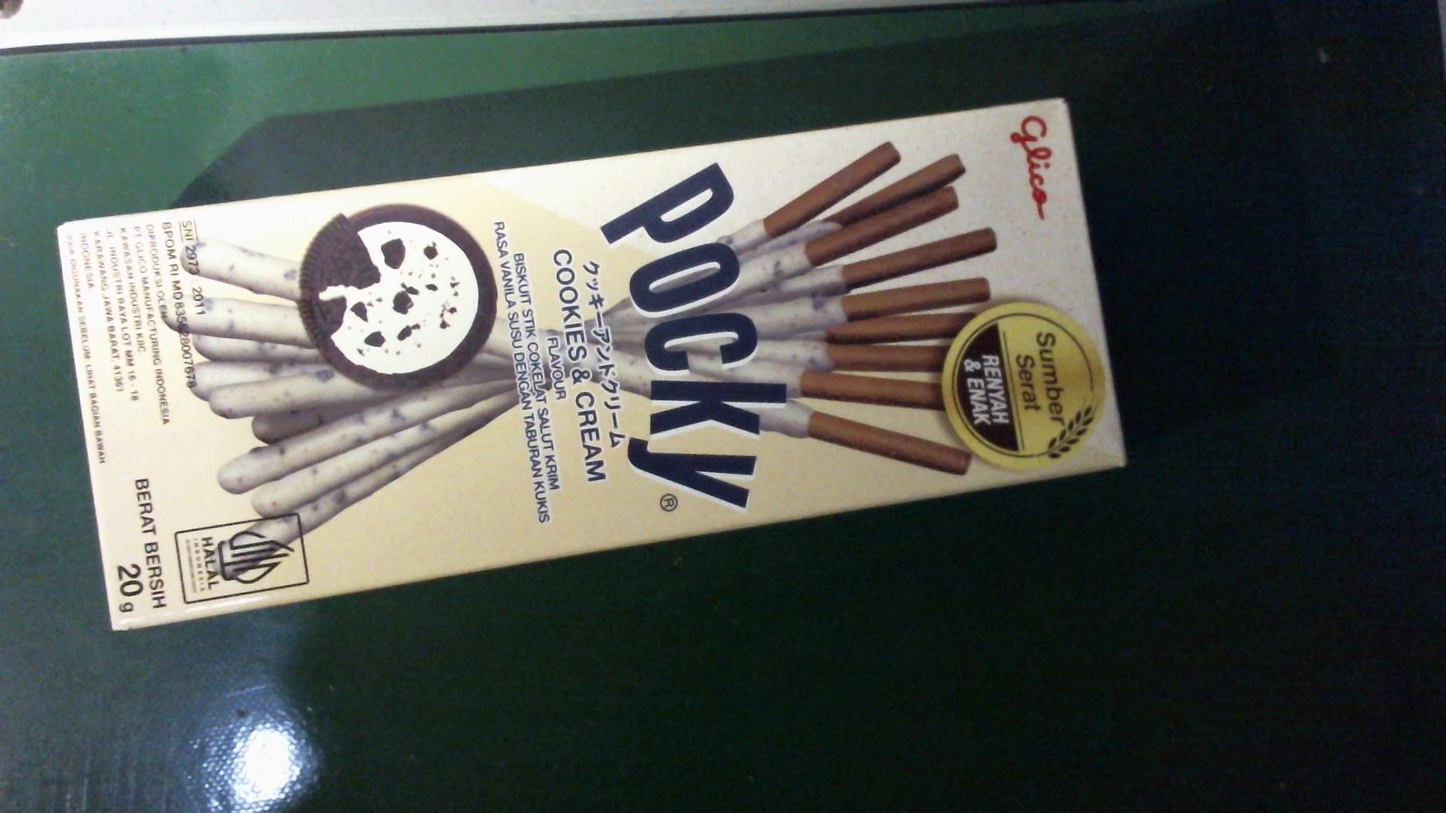Kertas: (56, 94, 1149, 630)
